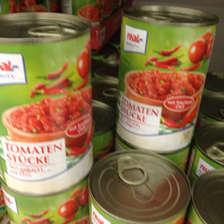tomato_sauce: (1, 12, 94, 197), (113, 5, 218, 151)
